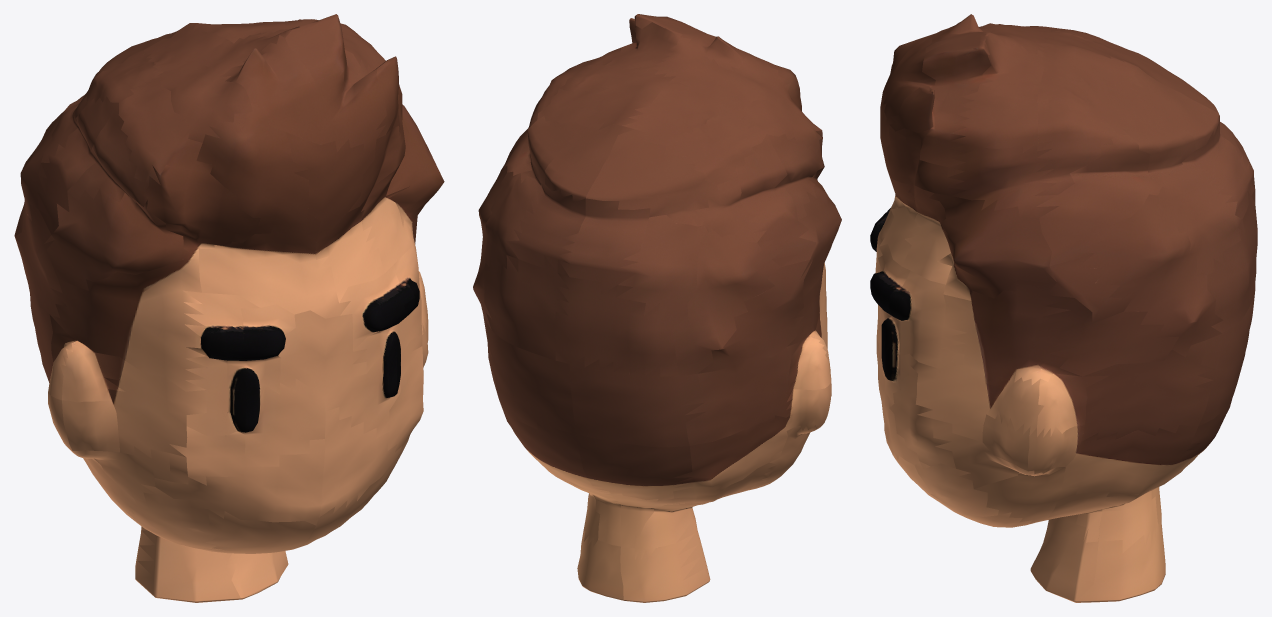
Rendered from meshy6.glb.
3 views of the same model, side by side, from view 1: azimuth 30°, elevation 25°; view 2: azimuth 150°, elevation 25°; view 3: azimuth 270°, elevation 25° (orthographic). The views are drawn at different scales.
Bounding box in the file's own units: 1.26 × 1.91 × 1.2.
1 material, 1 textured.
